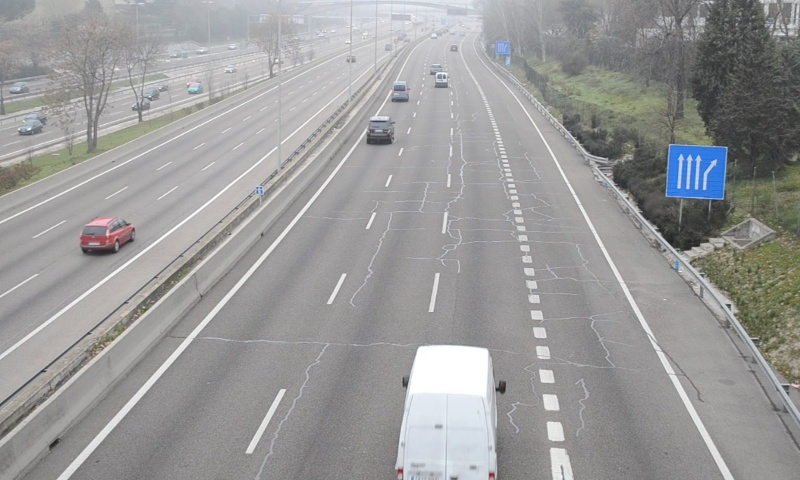car: (366, 116, 394, 143)
van: (398, 344, 498, 480), (391, 80, 406, 101)
